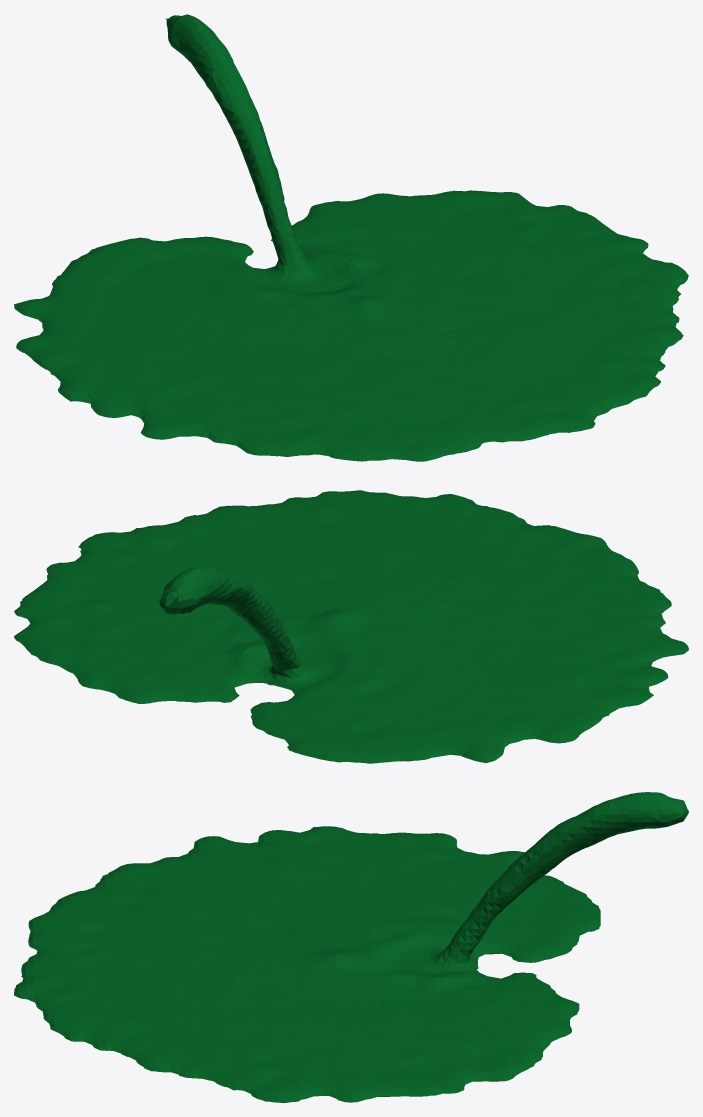
File: fluid_31.fbx
The picture shows the model from 3 angles, top to bottom: view 1: azimuth 30°, elevation 25°; view 2: azimuth 150°, elevation 25°; view 3: azimuth 270°, elevation 25°; orthographic projection. The views are drawn at different scales.
Visible parts, largest first — view 1: Cube; view 2: Cube; view 3: Cube.
Boxes of the visible parts, x1,y1,x2,y2 form: Cube: (14, 14, 688, 461); Cube: (14, 490, 688, 763); Cube: (14, 792, 688, 1102).
Bounding box in the file's own units: 595 × 177 × 616.
